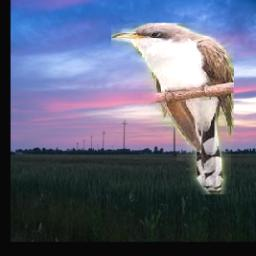Cuckoo: (111, 24, 234, 195)
